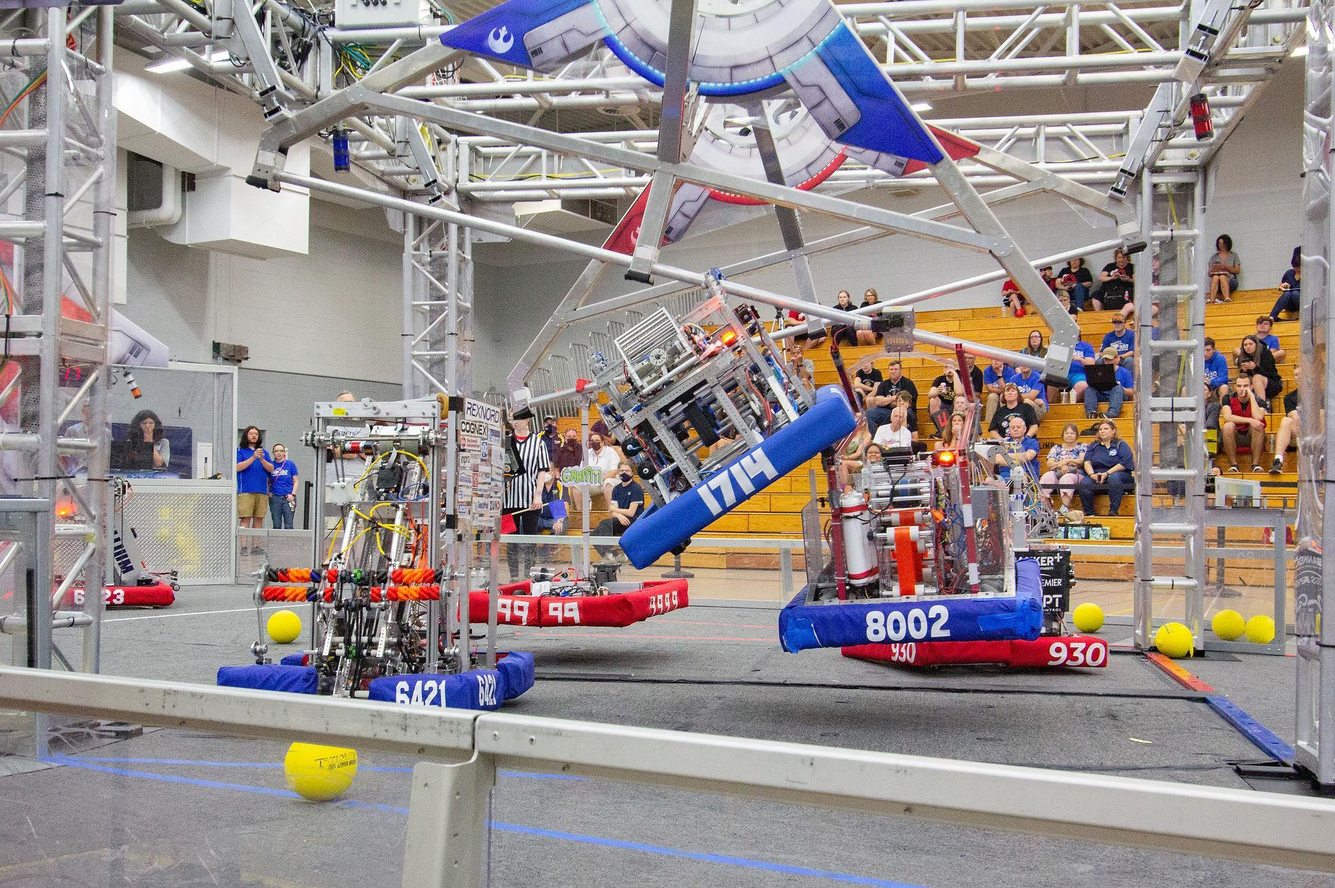robot: (215, 396, 544, 718), (770, 316, 1050, 656), (839, 340, 1110, 680), (569, 266, 858, 575), (456, 373, 695, 629), (20, 441, 184, 613)
